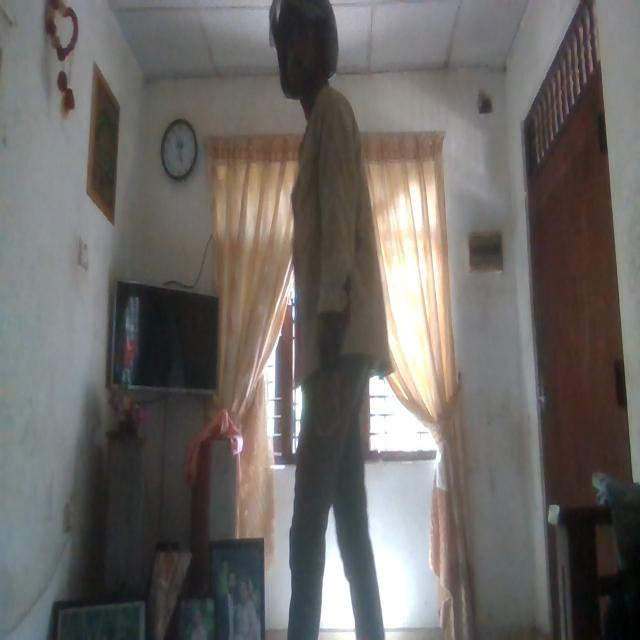Helmet_Wearer: (266, 3, 346, 89)
Jacket_Wearer: (275, 82, 395, 404)
Person: (259, 0, 397, 634)
